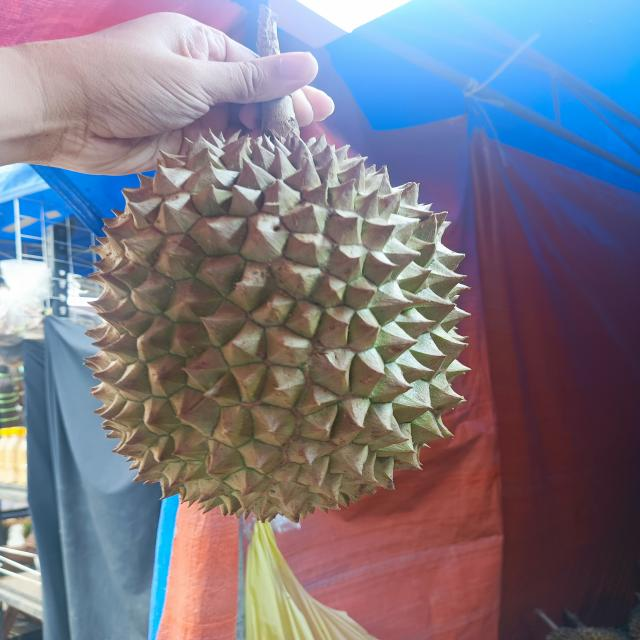mature: (79, 126, 470, 522)
